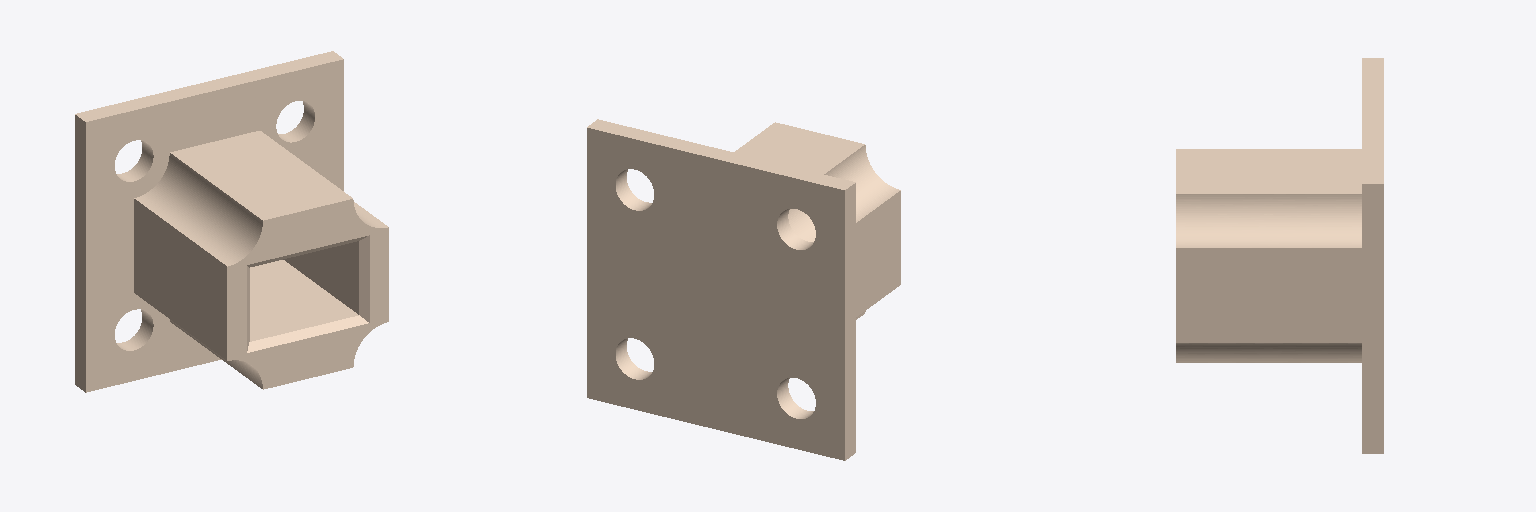
Rendered from industreal_tray_insert_rectangular_peg_16mm.obj.
3 views of the same model, side by side, from view 1: azimuth 30°, elevation 25°; view 2: azimuth 150°, elevation 25°; view 3: azimuth 270°, elevation 25° (orthographic).
Parts seen in each view (by area): view 1: industreal_tray_insert_rectangular_peg_16mm; view 2: industreal_tray_insert_rectangular_peg_16mm; view 3: industreal_tray_insert_rectangular_peg_16mm.
Boxes of the visible parts, <box> form: industreal_tray_insert_rectangular_peg_16mm: <box>75,51,388,392</box>; industreal_tray_insert_rectangular_peg_16mm: <box>587,119,900,460</box>; industreal_tray_insert_rectangular_peg_16mm: <box>1176,58,1383,453</box>.
Bounding box in the file's own units: 0.04 × 0.04 × 0.028.